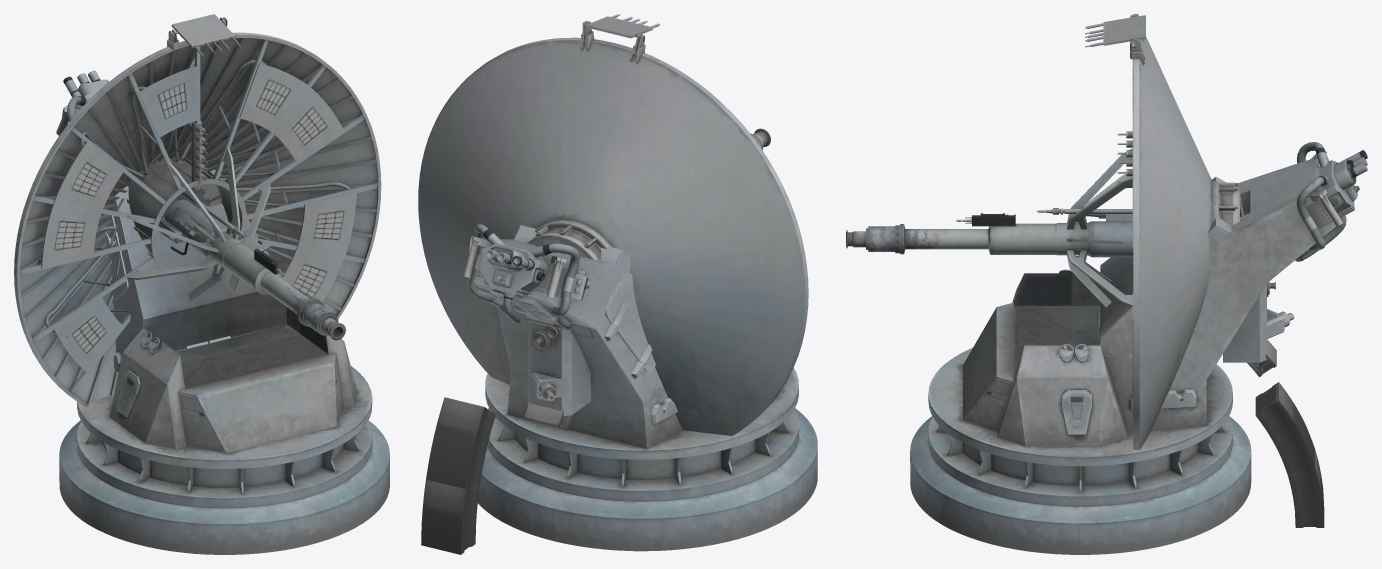
Rendered from atgar.glb.
The picture shows the model from 3 angles, left to right: view 1: azimuth 30°, elevation 25°; view 2: azimuth 150°, elevation 25°; view 3: azimuth 270°, elevation 25°; orthographic projection. The views are drawn at different scales.
Size of the model in its own units: 2.06 by 2.41 by 2.47.
Materials: 1 (1 with a texture image).
